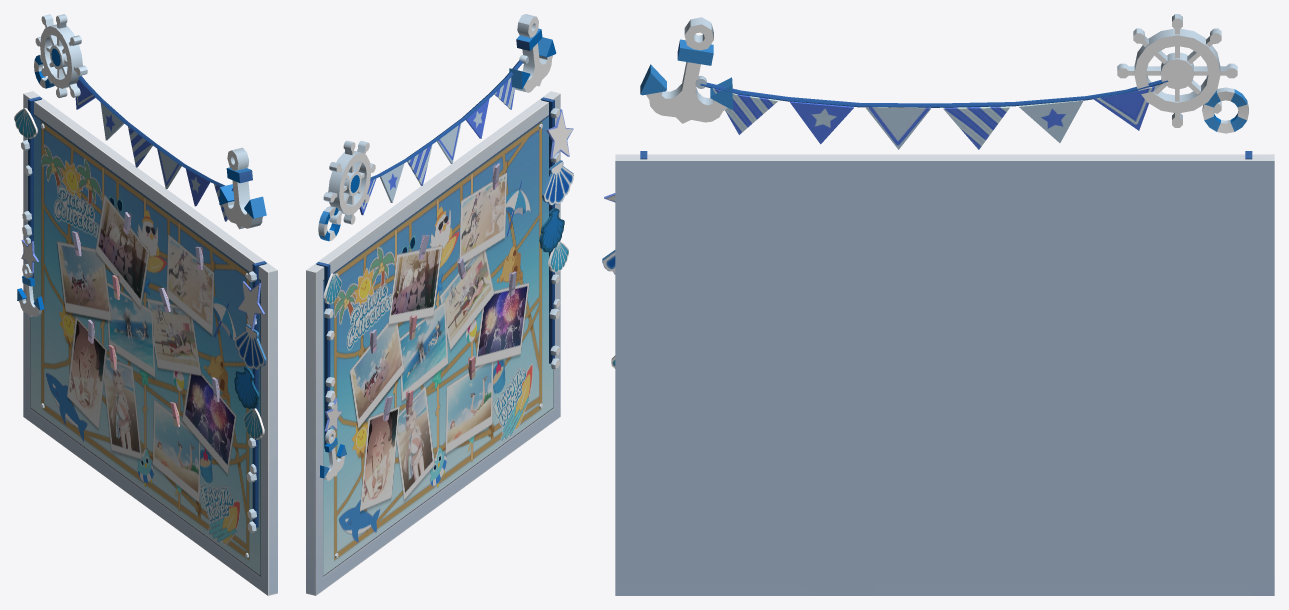
File: my_event01_summerwhiteboard.glb
3 views of the same model, side by side, from view 1: azimuth 30°, elevation 25°; view 2: azimuth 150°, elevation 25°; view 3: azimuth 270°, elevation 25° (orthographic). The views are drawn at different scales.
Visible parts, largest first — view 1: my_event01_summerwhiteboard; view 2: my_event01_summerwhiteboard; view 3: my_event01_summerwhiteboard.
Boxes of the visible parts, x1,y1,x2,y2 form: my_event01_summerwhiteboard: [14, 14, 277, 595]; my_event01_summerwhiteboard: [306, 14, 573, 595]; my_event01_summerwhiteboard: [602, 14, 1274, 595].
Size of the model in its own units: 0.000838 by 0.0152 by 0.0161.
1 material, 1 textured.
